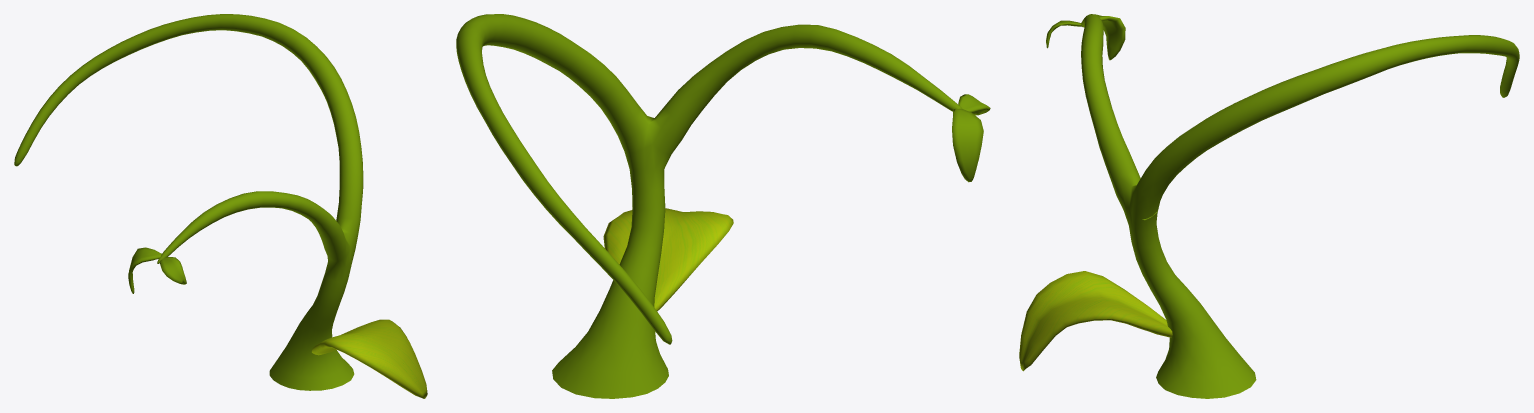
File: plant1.fbx
3 renders of one model, left to right at view 1: azimuth 30°, elevation 25°; view 2: azimuth 150°, elevation 25°; view 3: azimuth 270°, elevation 25°, orthographic. The views are drawn at different scales.
Visible parts, largest first — view 1: plants; view 2: plants; view 3: plants.
Boxes of the visible parts, x1=… form: plants: x1=14, y1=14, x2=427, y2=398; plants: x1=456, y1=14, x2=990, y2=398; plants: x1=1019, y1=14, x2=1519, y2=398.
Bounding box in the file's own units: 121 × 120 × 158.
